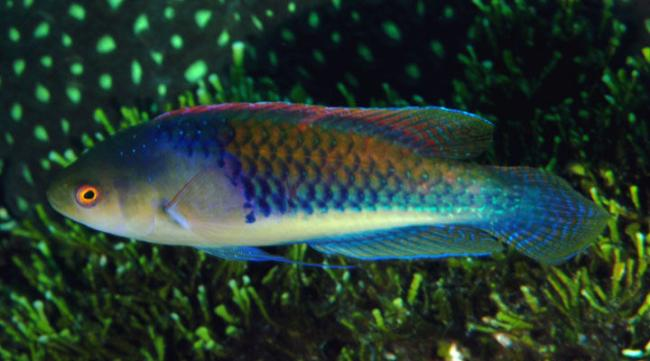fish: (47, 101, 609, 270)
